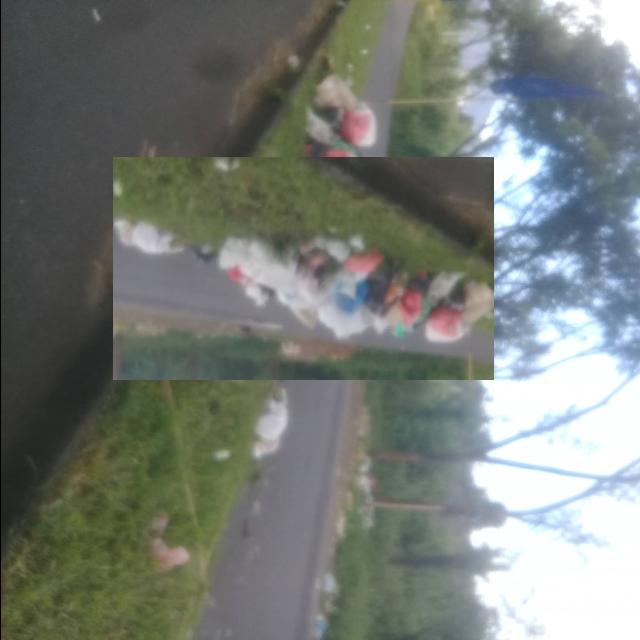garbage: (152, 118, 454, 420)
